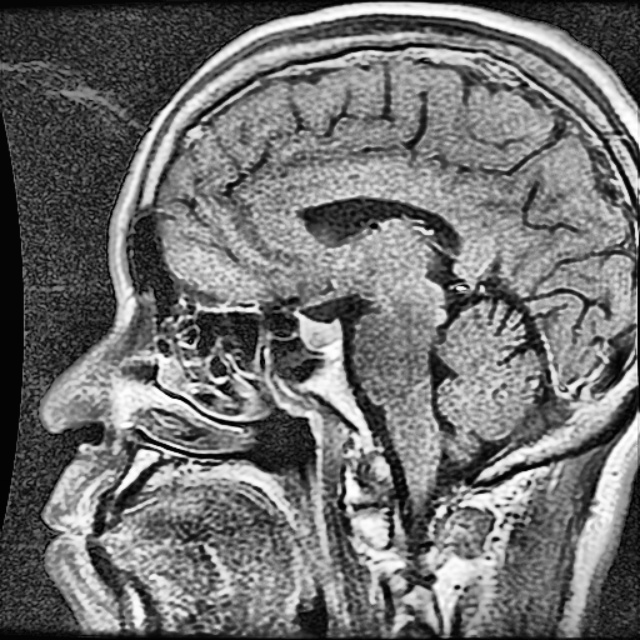Pituitary: (299, 320, 342, 349)
